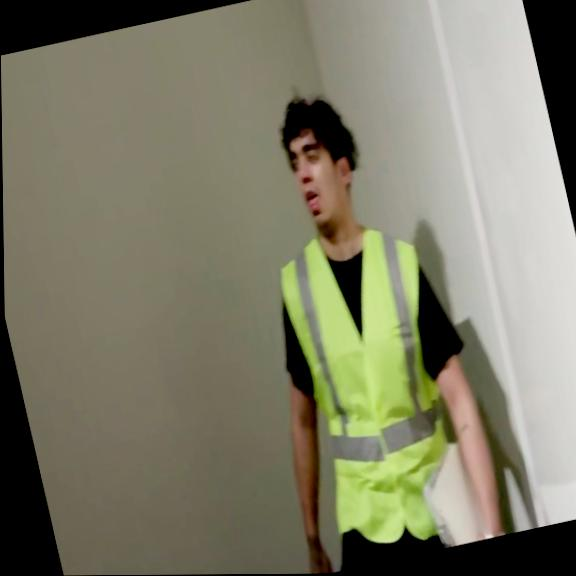safety_vest: (269, 218, 481, 559)
